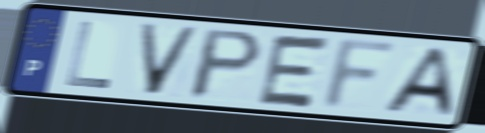A: (378, 46, 459, 120)
E: (253, 32, 335, 111)
F: (318, 36, 405, 113)
L: (62, 19, 113, 92)
P: (184, 26, 267, 101)
V: (136, 21, 204, 98)
